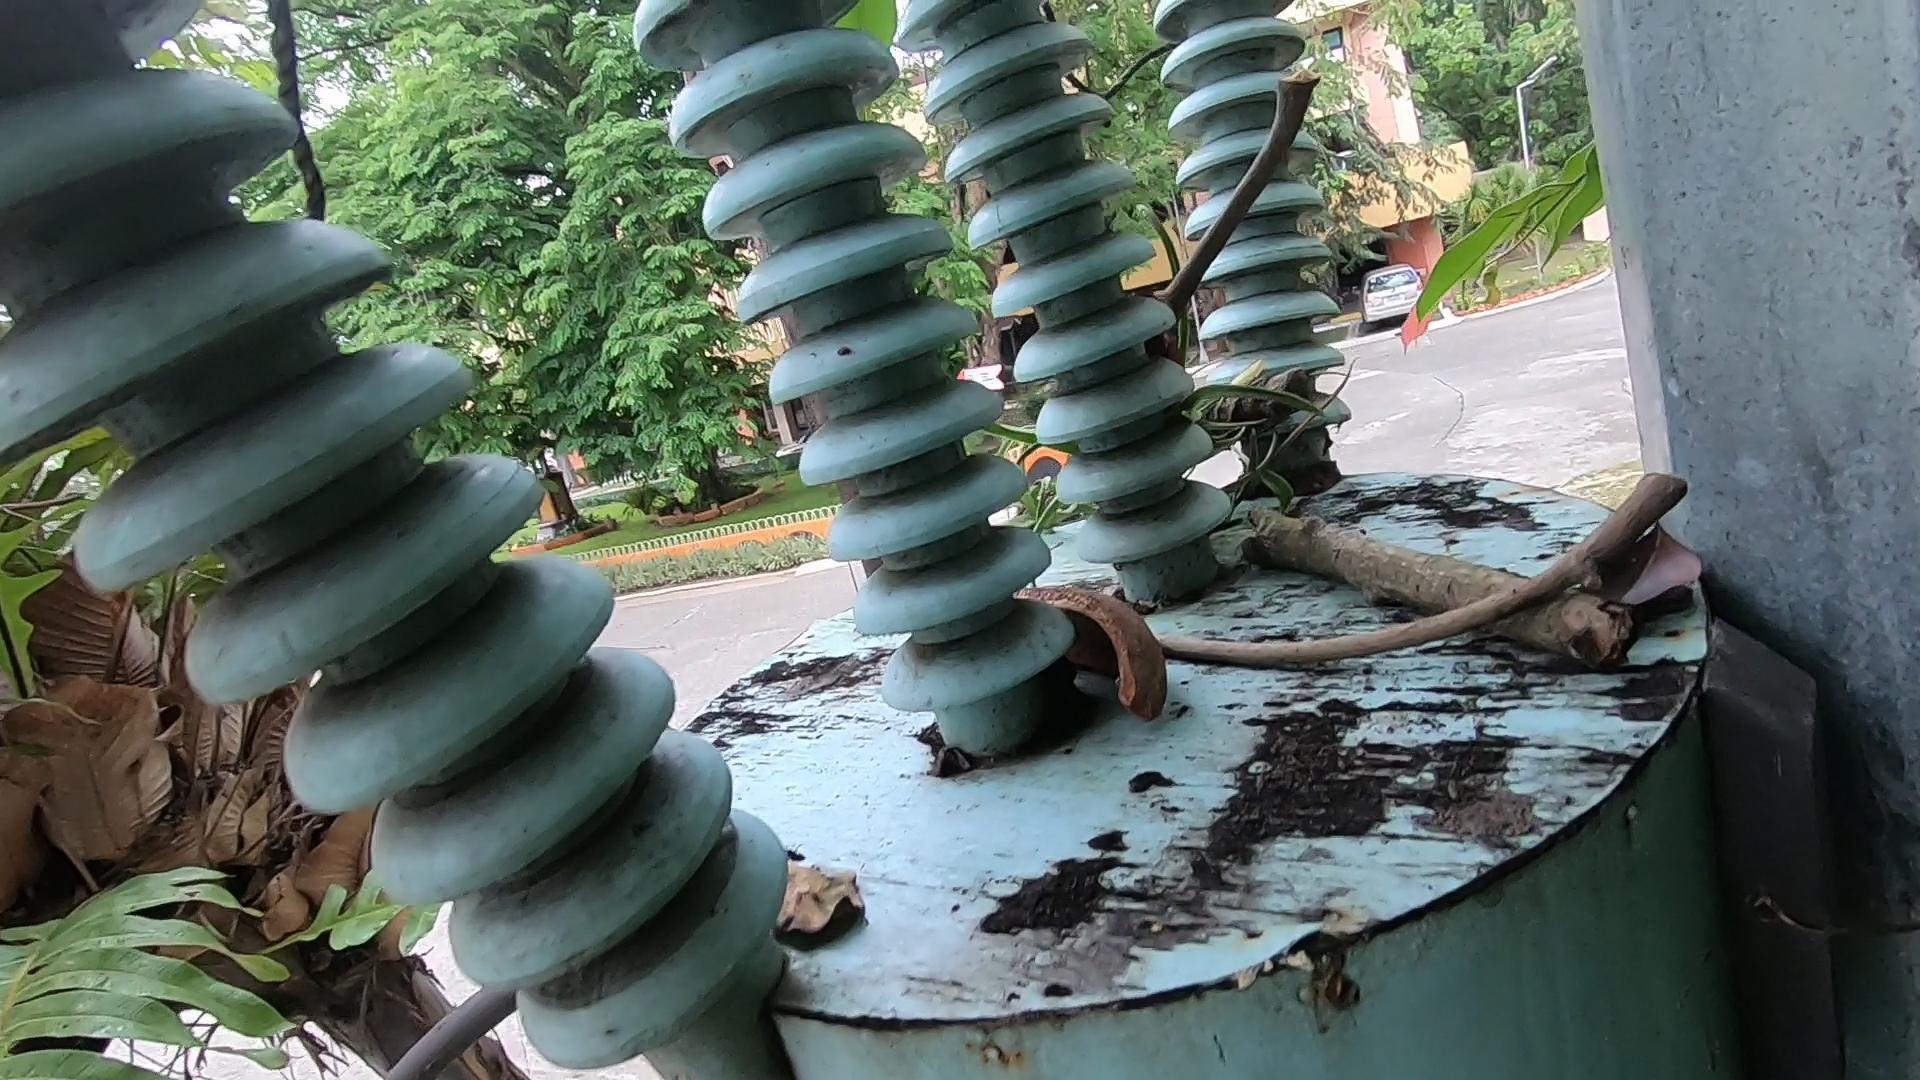branch with leaves: (1166, 398, 1614, 719)
leaf: (762, 819, 953, 1021), (1614, 517, 1695, 659)
mahogany fruit: (1051, 553, 1179, 713)
tree branch: (1137, 488, 1669, 646), (1183, 46, 1342, 332)
